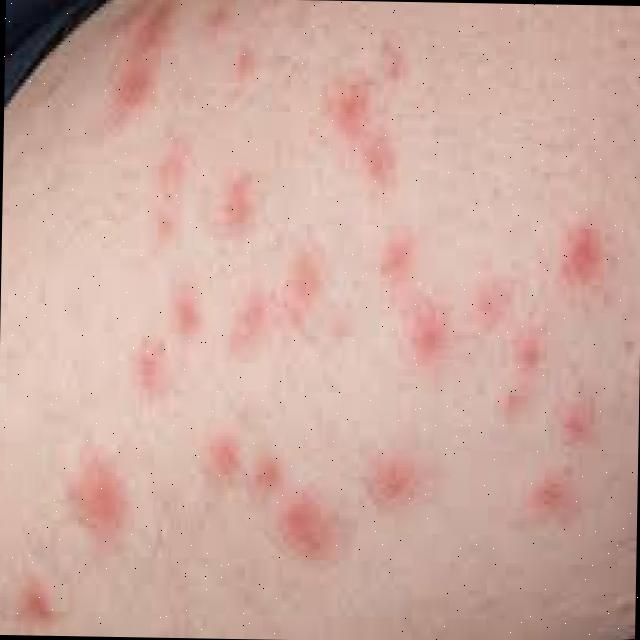kan emici bocekler: (81, 431, 132, 577), (92, 53, 174, 130), (153, 140, 191, 271), (101, 1, 182, 62), (553, 221, 613, 303), (370, 440, 426, 524), (353, 130, 401, 226), (400, 283, 455, 364), (205, 164, 251, 255), (281, 240, 331, 323), (278, 486, 344, 542), (359, 228, 422, 282), (469, 272, 522, 331), (552, 386, 592, 464), (10, 571, 66, 626), (235, 285, 276, 351), (133, 335, 168, 404), (527, 471, 578, 518), (327, 77, 374, 128), (167, 282, 201, 351), (208, 429, 243, 493), (362, 51, 414, 93), (246, 448, 289, 495), (195, 1, 238, 42), (514, 316, 541, 380), (224, 46, 257, 89), (495, 388, 529, 429)
